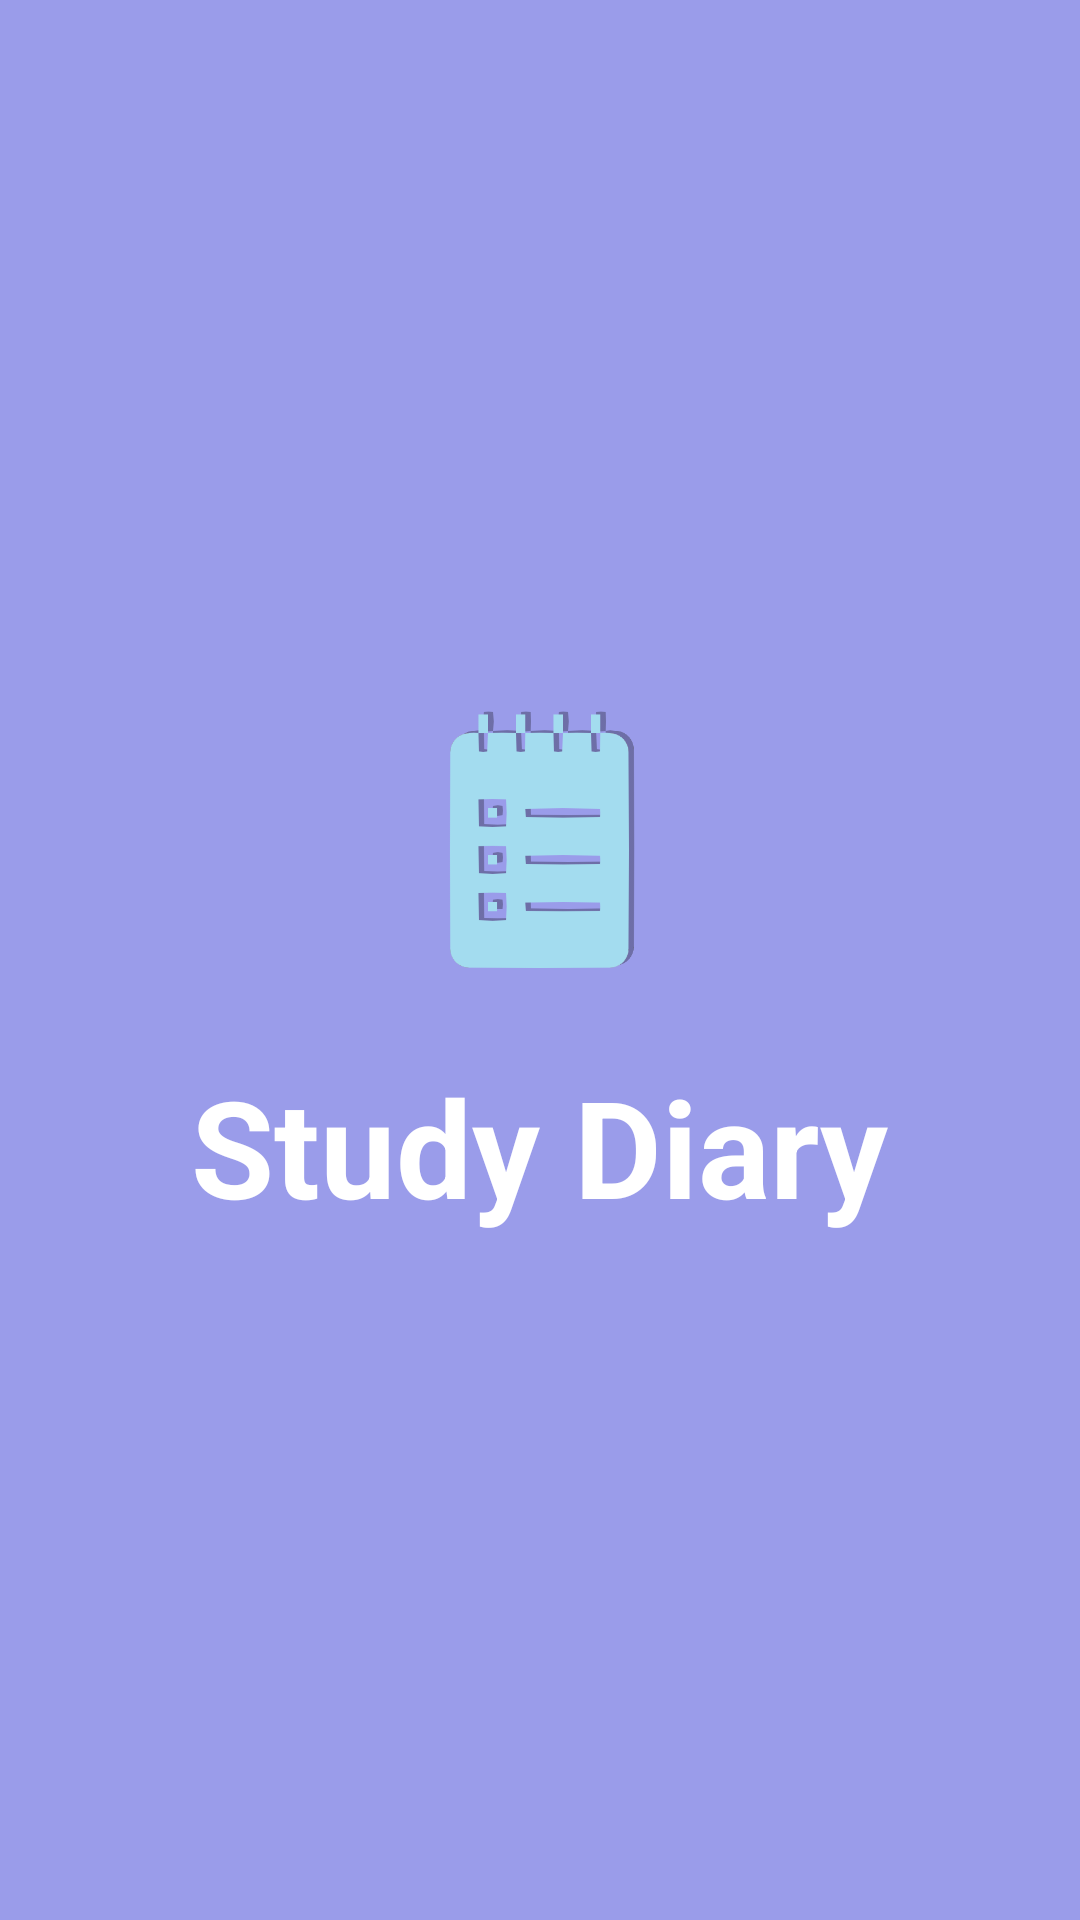

Named icons in this screenshot (1080x1920) and their bounding boxes, [left=x1, top=y1, right=x2, bottom=y2]:
note: [left=450, top=711, right=634, bottom=968]
